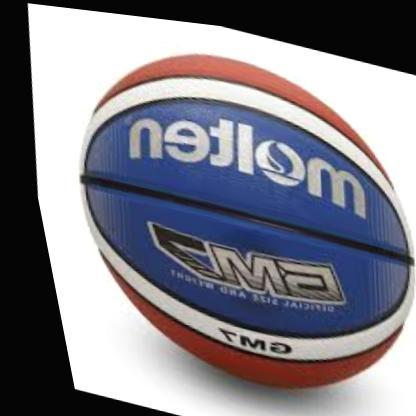basketball: (25, 12, 416, 416)
